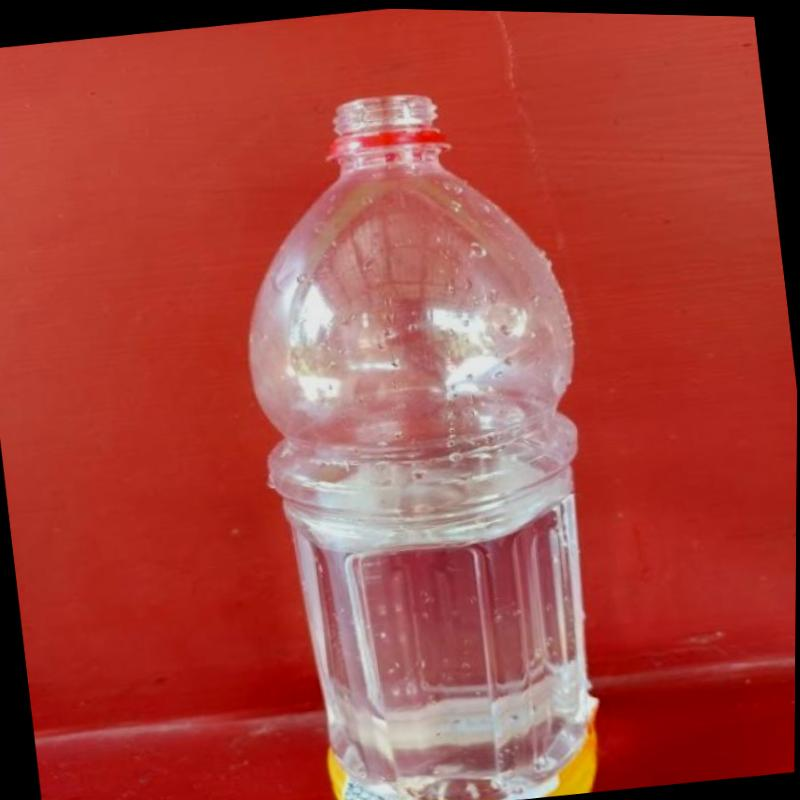botella: (214, 70, 635, 800)
